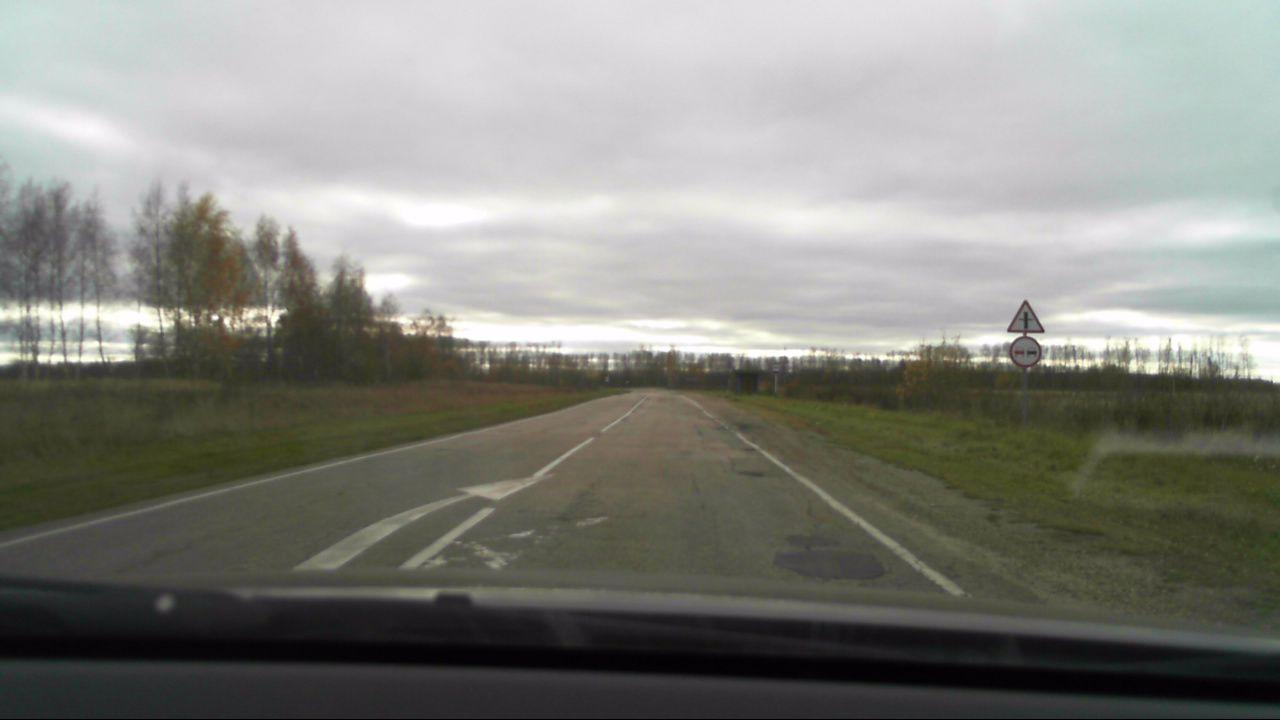2_3_1: (1004, 298, 1046, 333)
3_20: (1008, 336, 1042, 369)
